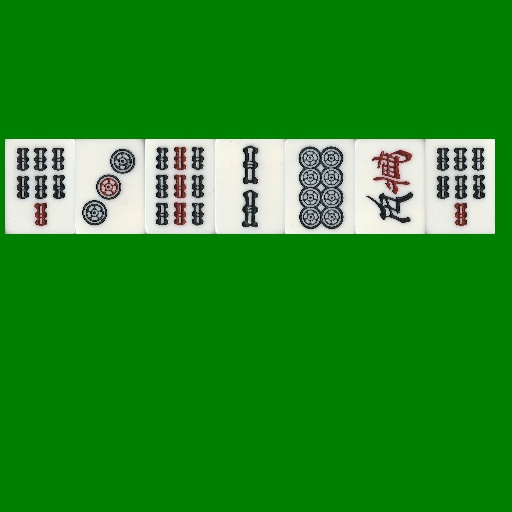2s: (215, 139, 285, 234)
3p: (75, 139, 145, 234)
5m: (355, 139, 425, 234)
7s: (5, 139, 75, 234), (425, 139, 495, 234)
8p: (285, 139, 355, 234)
9s: (145, 139, 215, 234)
